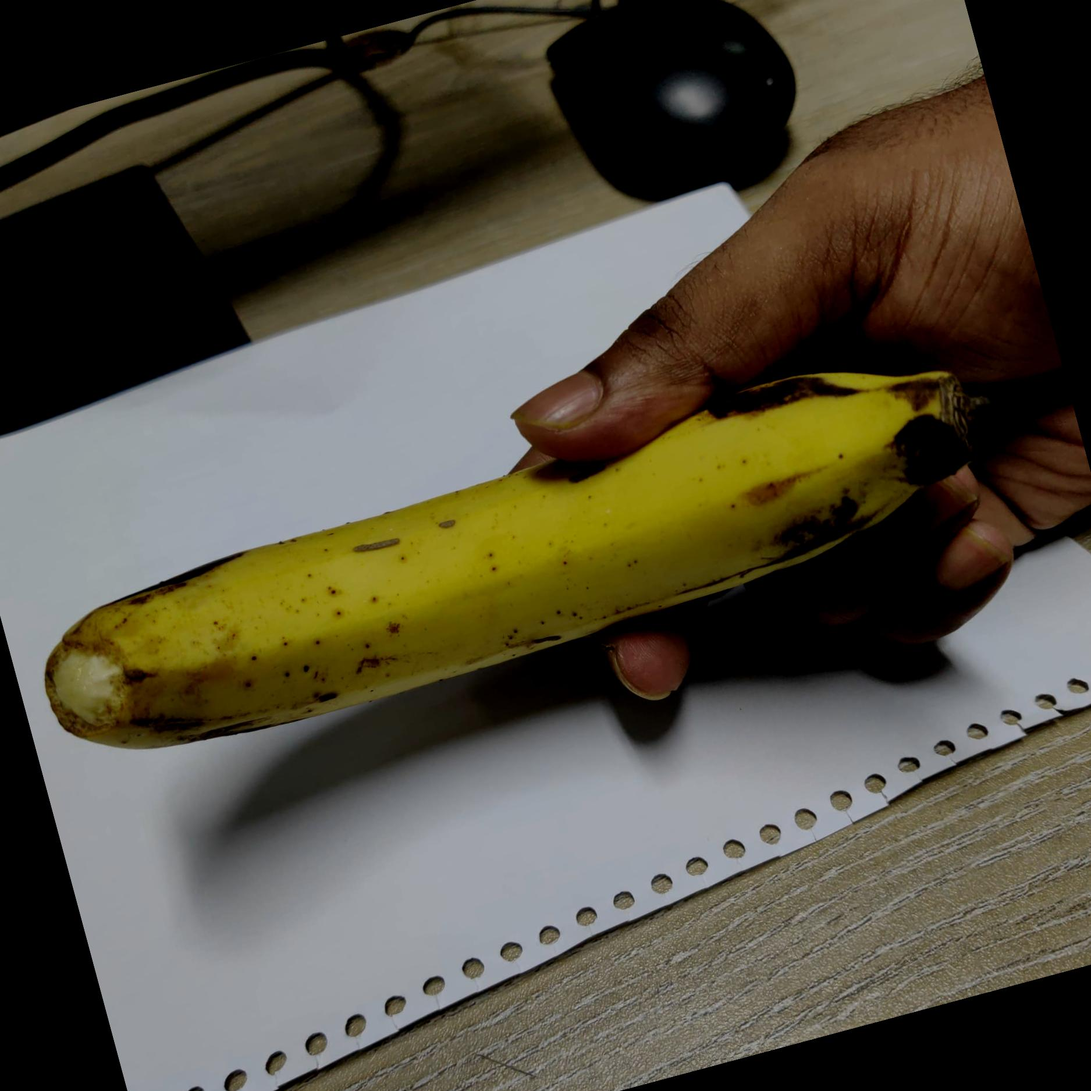Banana Ripe: (22, 308, 1016, 825)
